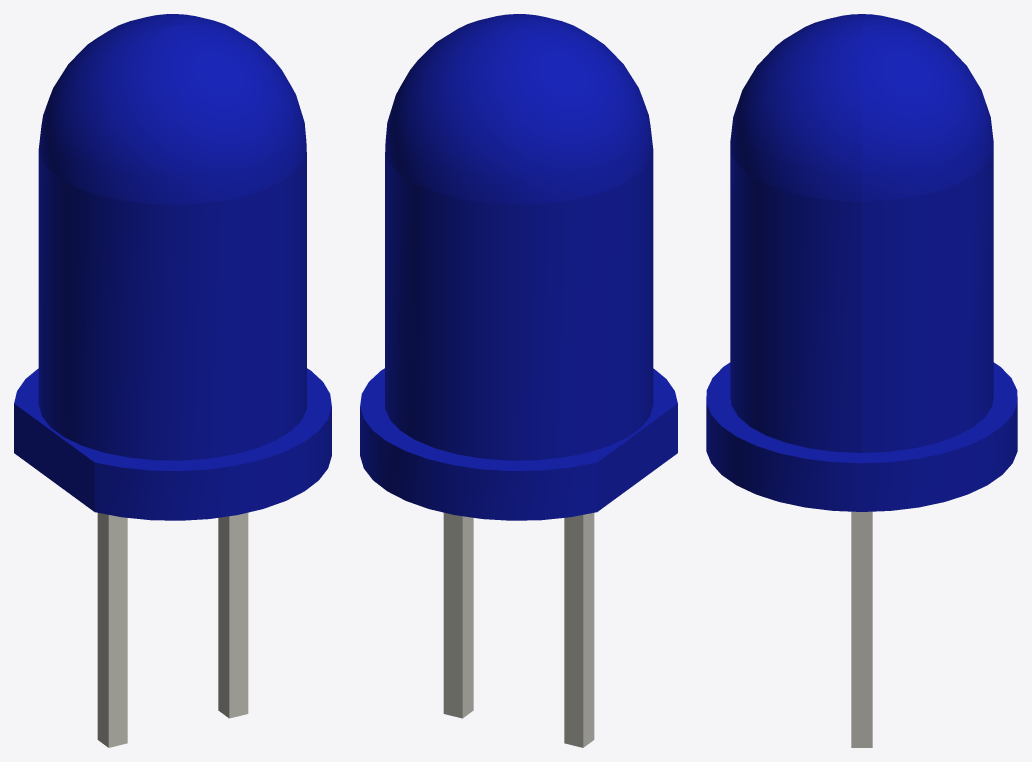
File: kc-led_d5.0mm_blue.glb
3 views of the same model, side by side, from view 1: azimuth 30°, elevation 25°; view 2: azimuth 150°, elevation 25°; view 3: azimuth 270°, elevation 25° (orthographic).
Parts seen in each view (by area): view 1: 0_0_0.4166666666666667_0, 0.6666666666666666_0.6666666666666666_0.5833333333333334_0.8; view 2: 0_0_0.4166666666666667_0, 0.6666666666666666_0.6666666666666666_0.5833333333333334_0.8; view 3: 0_0_0.4166666666666667_0, 0.6666666666666666_0.6666666666666666_0.5833333333333334_0.8.
Part boxes in pixels (left/top/right/bottom): 0_0_0.4166666666666667_0: left=14, top=14, right=331, bottom=520; 0.6666666666666666_0.6666666666666666_0.5833333333333334_0.8: left=97, top=512, right=248, bottom=747; 0_0_0.4166666666666667_0: left=360, top=14, right=677, bottom=520; 0.6666666666666666_0.6666666666666666_0.5833333333333334_0.8: left=443, top=512, right=594, bottom=747; 0_0_0.4166666666666667_0: left=706, top=14, right=1017, bottom=511; 0.6666666666666666_0.6666666666666666_0.5833333333333334_0.8: left=851, top=511, right=872, bottom=747.
Size of the model in its own units: 0.54 by 1.41 by 0.5782.
